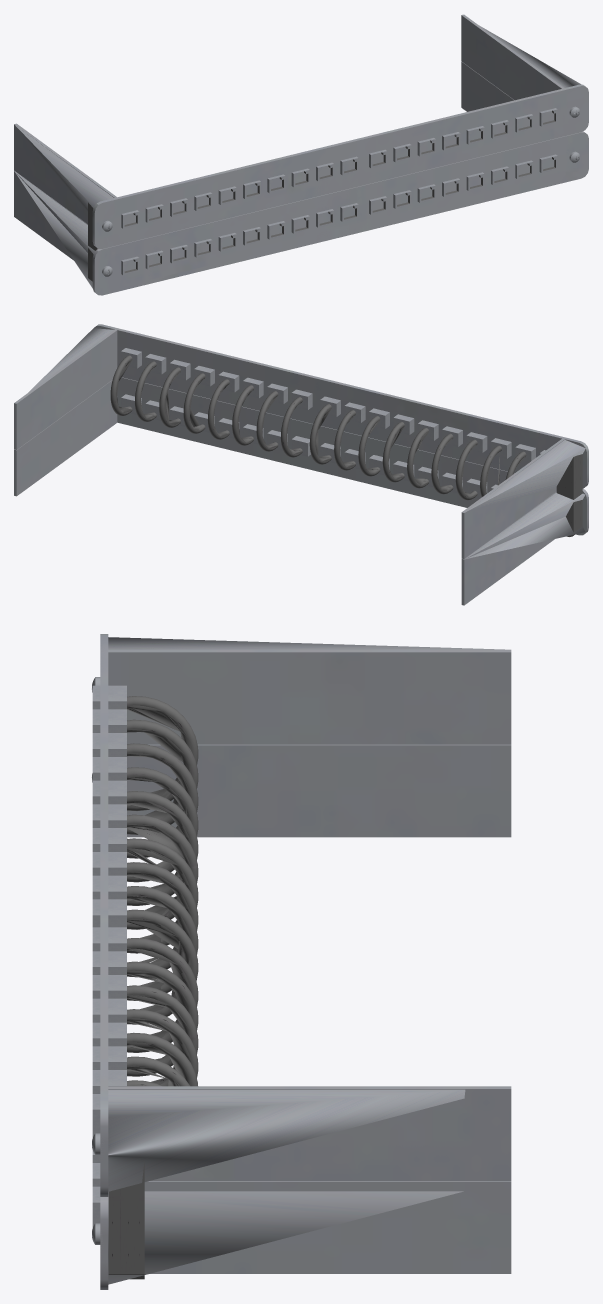
The model's file is PatchPanel.CU.2u.glb.
3 renders of one model, top to bottom at view 1: azimuth 30°, elevation 25°; view 2: azimuth 150°, elevation 25°; view 3: azimuth 270°, elevation 25°, orthographic. The views are drawn at different scales.
Visible parts, largest first — view 1: PatchPanel; view 2: PatchPanel; view 3: PatchPanel.
Boxes of the visible parts, x1=… form: PatchPanel: x1=14, y1=14, x2=588, y2=295; PatchPanel: x1=14, y1=324, x2=588, y2=605; PatchPanel: x1=92, y1=634, x2=511, y2=1289.
Size of what is drawn, in the model's own units: 0.4991 by 0.0893 by 0.1834.
4 materials, 4 textured.
